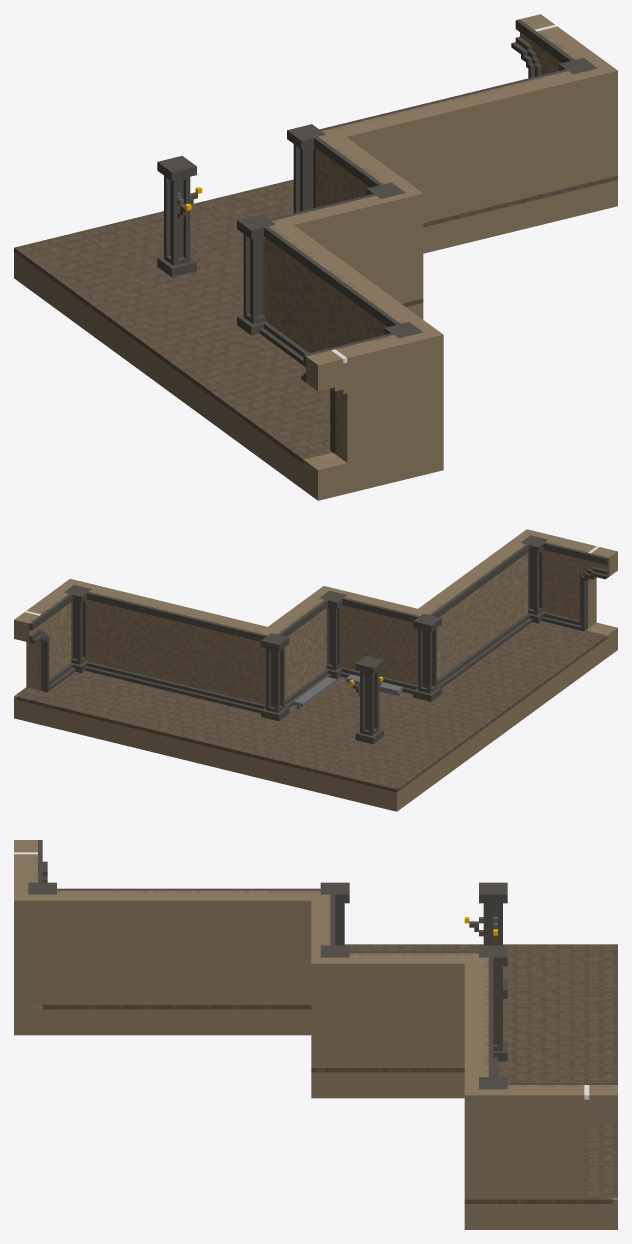
File: CasketRoom-0.obj
3 renders of one model, top to bottom at view 1: azimuth 30°, elevation 25°; view 2: azimuth 150°, elevation 25°; view 3: azimuth 270°, elevation 25°, orthographic. The views are drawn at different scales.
Size of the model in its own units: 12.6 by 3.1 by 12.6.
1 material, 1 textured.
